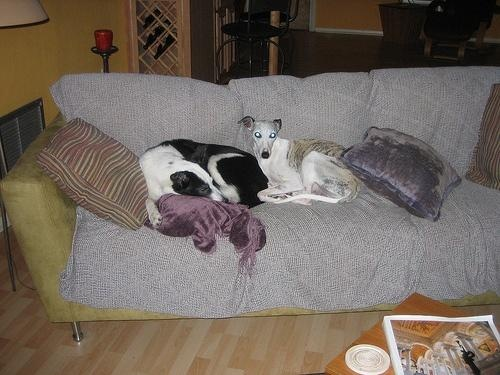dog: (141, 139, 270, 229), (238, 117, 358, 207)
sofa: (3, 73, 500, 343)
